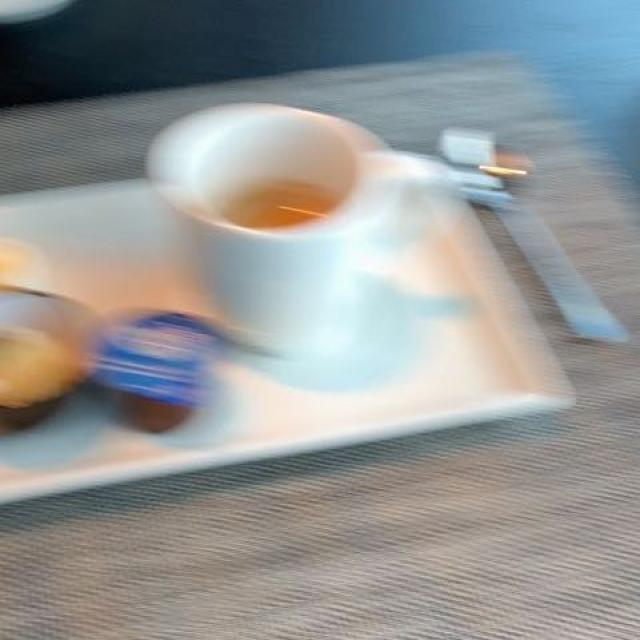espresso: (221, 186, 333, 230)
